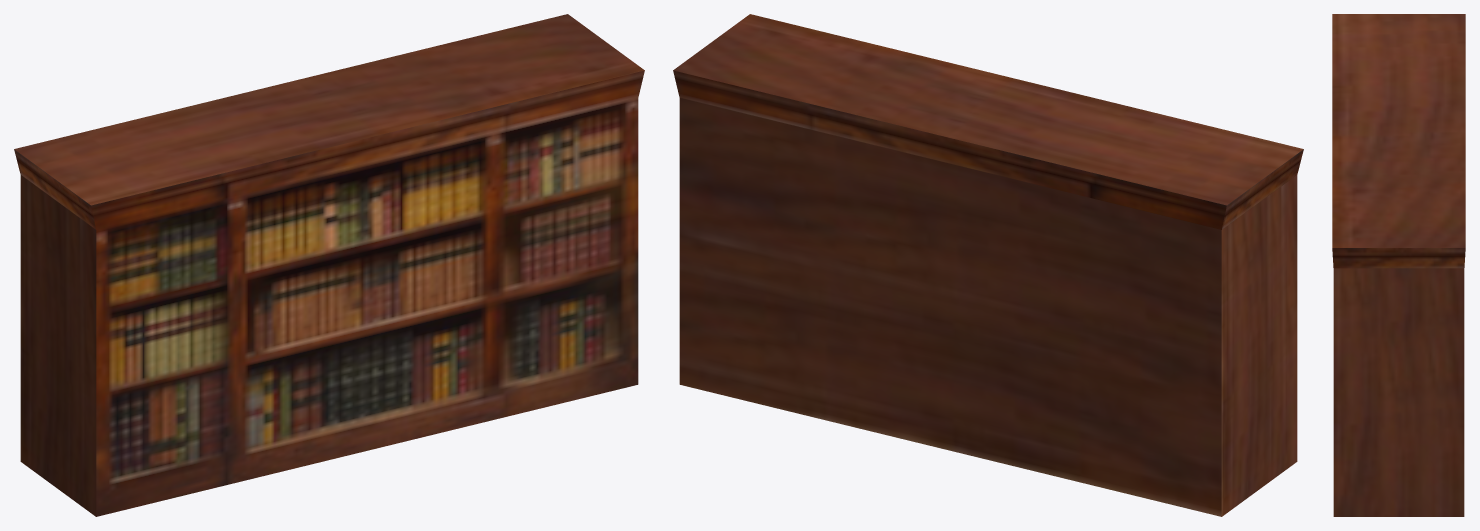
The model's file is Bookcase-col.glb.
The picture shows the model from 3 angles, left to right: view 1: azimuth 30°, elevation 25°; view 2: azimuth 150°, elevation 25°; view 3: azimuth 270°, elevation 25°; orthographic projection. The views are drawn at different scales.
Visible parts, largest first — view 1: Bookcase-col; view 2: Bookcase-col; view 3: Bookcase-col.
Boxes of the visible parts, left/top/right/bottom form: Bookcase-col: left=14, top=14, right=644, bottom=516; Bookcase-col: left=673, top=14, right=1303, bottom=516; Bookcase-col: left=1332, top=14, right=1465, bottom=516.
Size of the model in its own units: 3.7 by 2 by 0.8914.
Materials: 1 (1 with a texture image).
